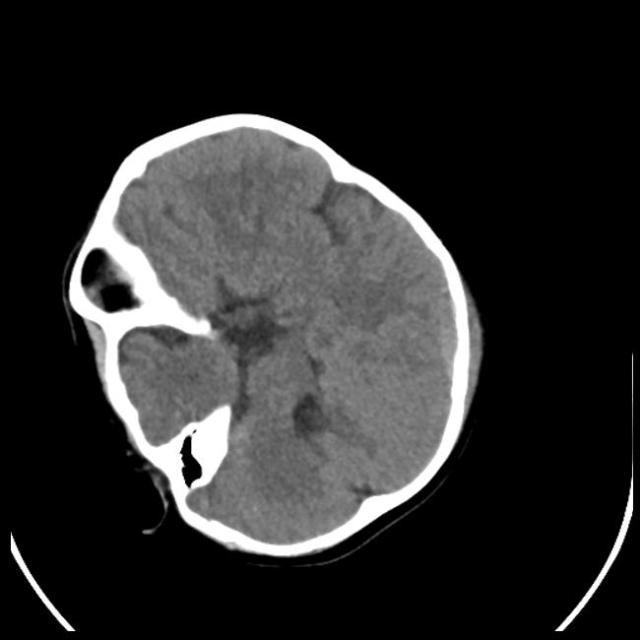lesion: (60, 110, 485, 562)
